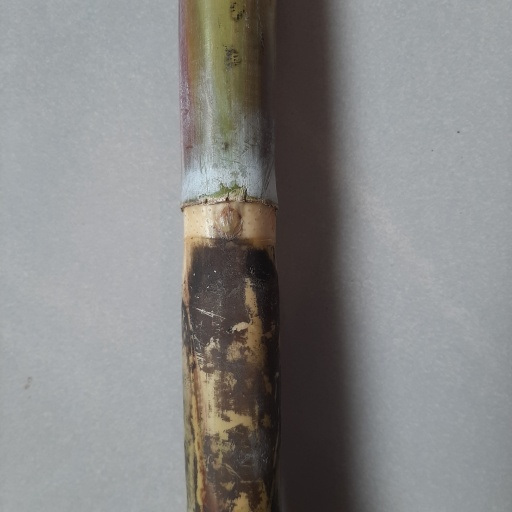Bud: (216, 208, 242, 241)
